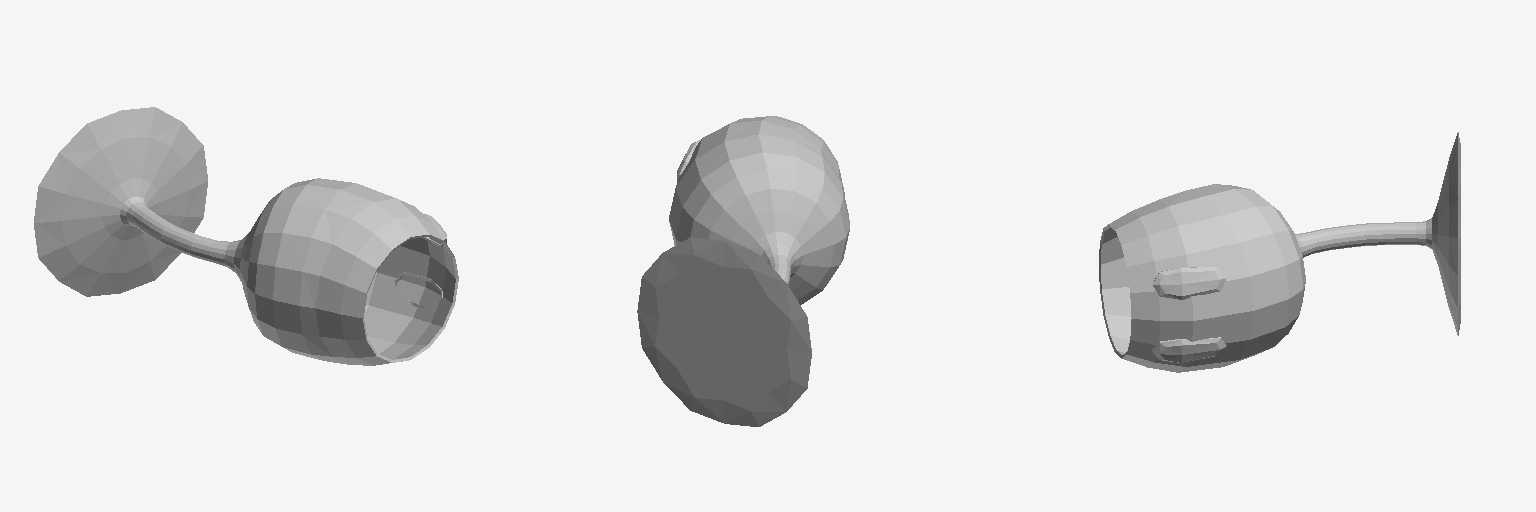
The model's file is animation_000006.obj.
3 views of the same model, side by side, from view 1: azimuth 30°, elevation 25°; view 2: azimuth 150°, elevation 25°; view 3: azimuth 270°, elevation 25° (orthographic).
Size of the model in its own units: 3.15 by 2.06 by 3.71.